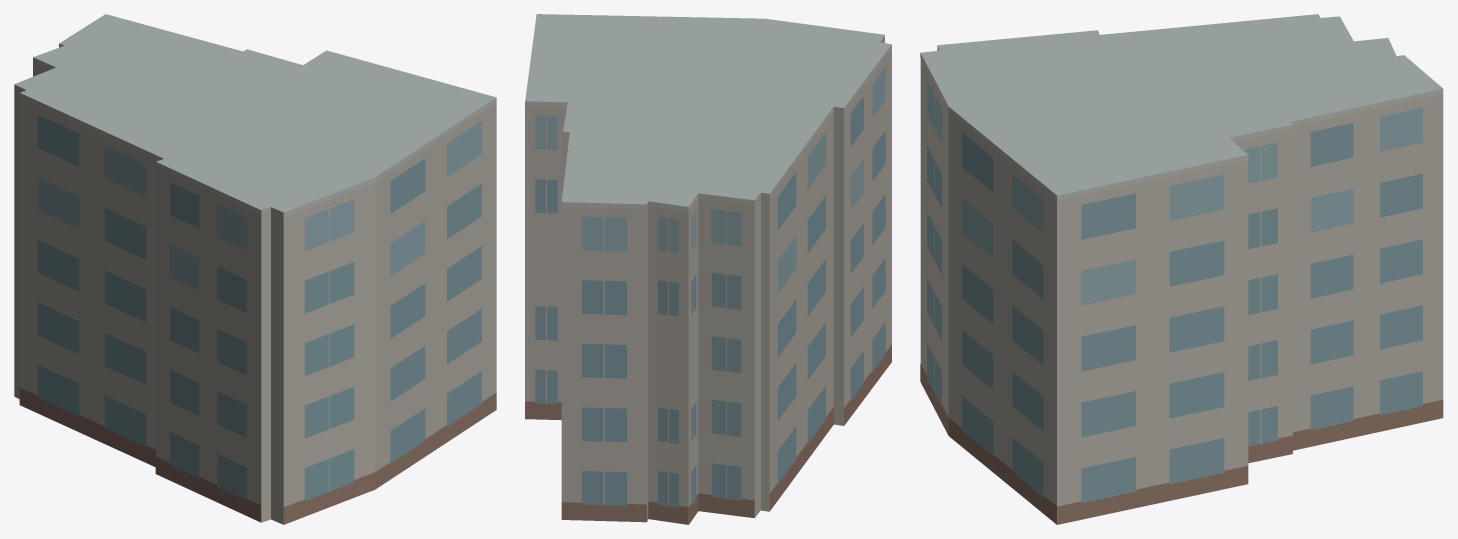
The model's file is survey-upis-32744245.glb.
3 renders of one model, left to right at view 1: azimuth 30°, elevation 25°; view 2: azimuth 150°, elevation 25°; view 3: azimuth 270°, elevation 25°, orthographic. The views are drawn at different scales.
Visible parts, largest first — view 1: survey-upis-32744245.tmp; view 2: survey-upis-32744245.tmp; view 3: survey-upis-32744245.tmp.
Part boxes in pixels (x1=…): survey-upis-32744245.tmp: x1=14, y1=14, x2=496, y2=524; survey-upis-32744245.tmp: x1=525, y1=14, x2=891, y2=524; survey-upis-32744245.tmp: x1=920, y1=14, x2=1443, y2=524.
Bounding box in the file's own units: 18.14 × 15.33 × 22.07.
